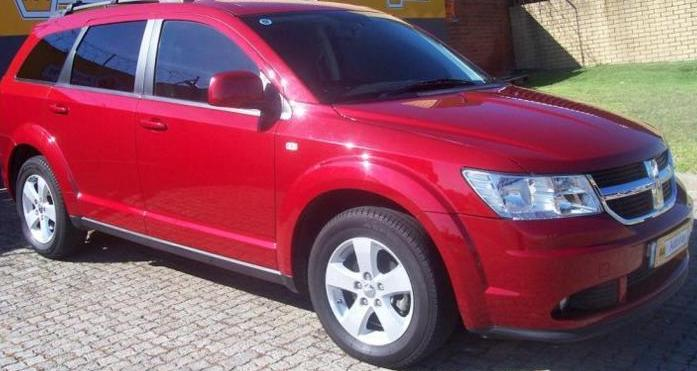front_view: (435, 122, 693, 325)
headlight: (456, 156, 594, 226)
side_glass: (40, 22, 288, 144)
